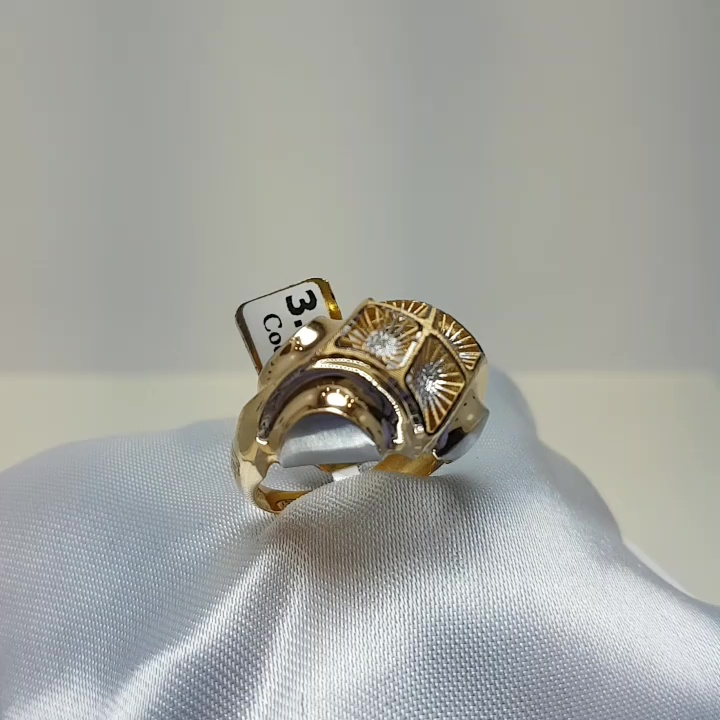Ring 2: (200, 268, 503, 539)
